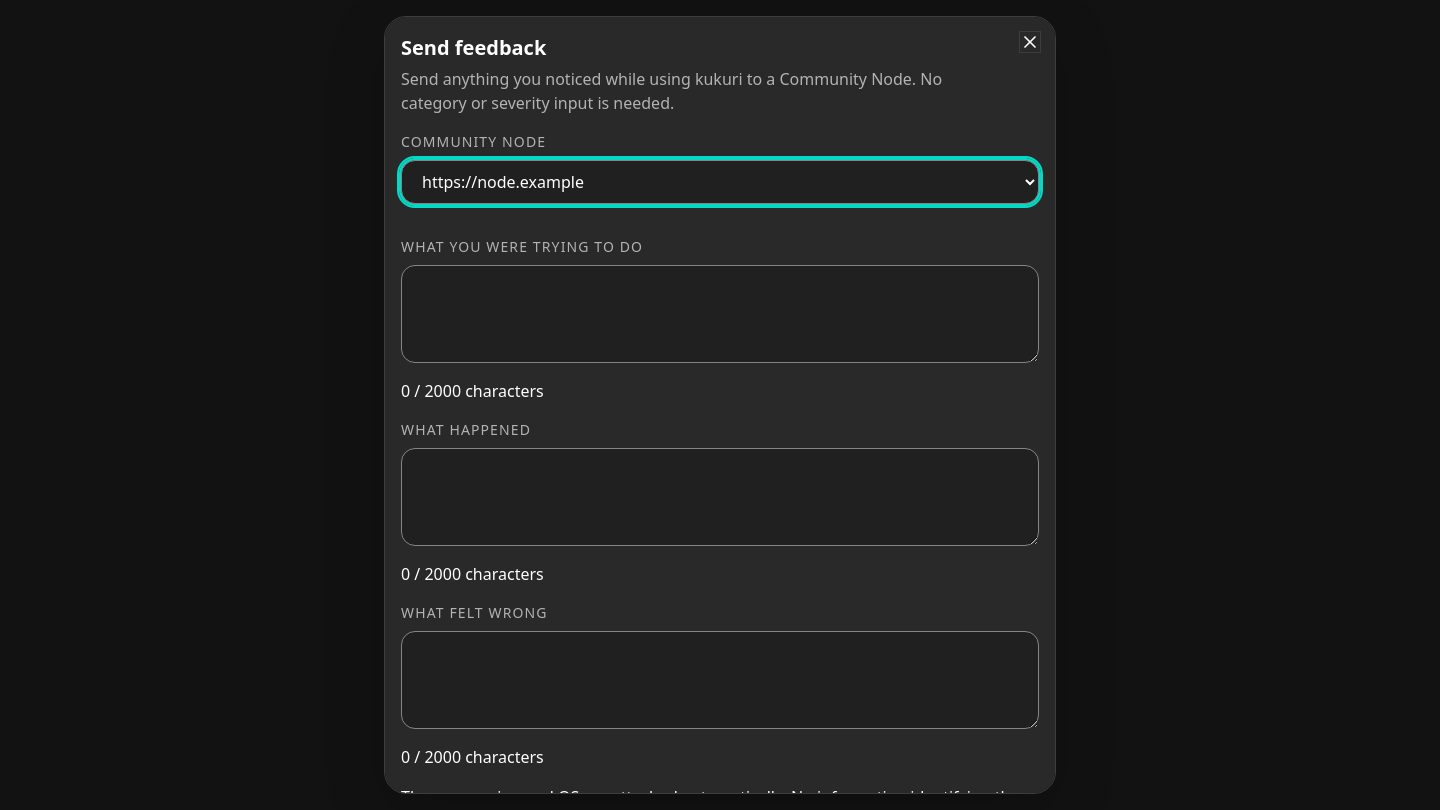
Test case: sends only the three texts and the selected node, then shows the reference id
Type "create a post" into the text box labelled "What you were trying to do" at (720, 314), box 401,265 -> 1039,363
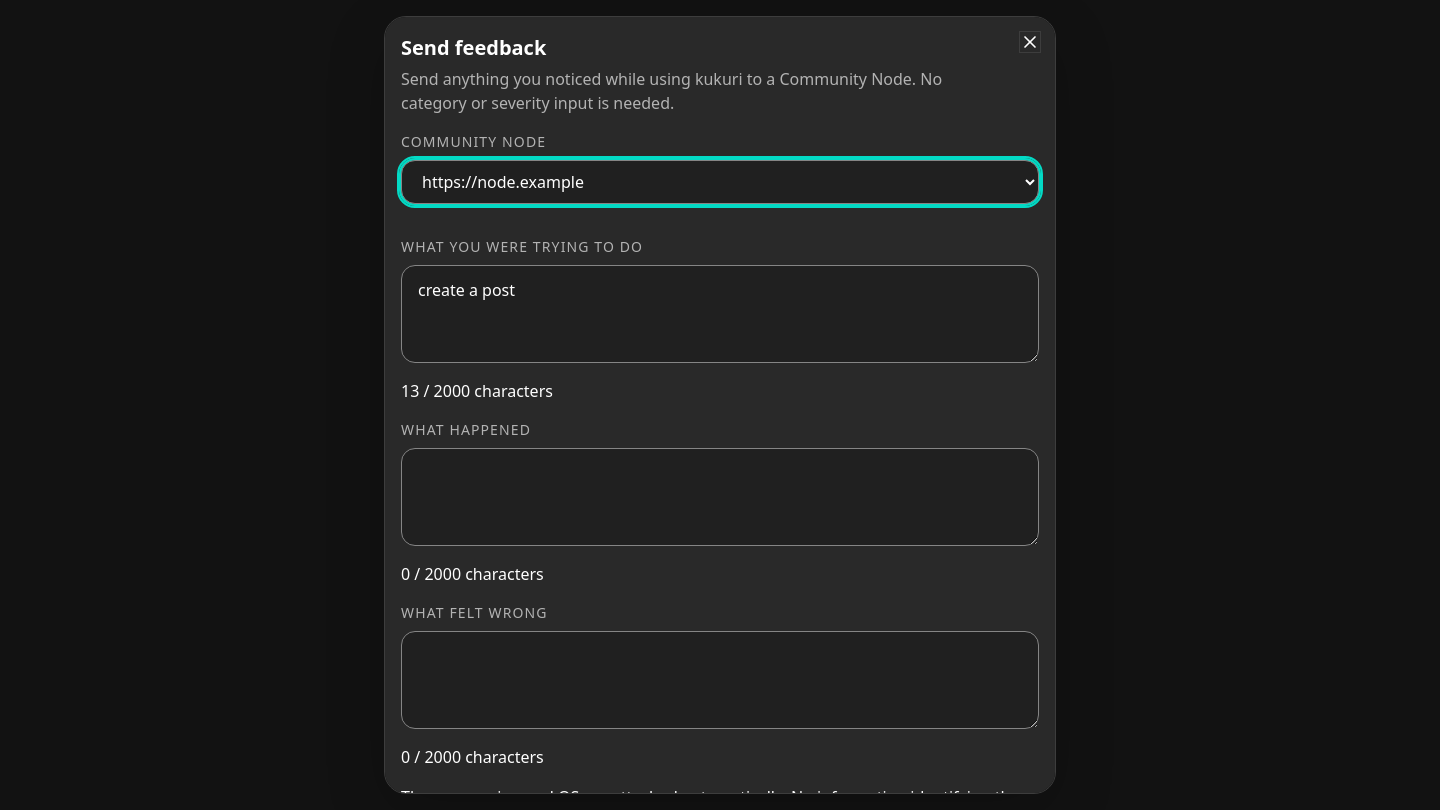
Type "nothing happened after pressing send" into the text box labelled "What happened" at (720, 497), box 401,448 -> 1039,546
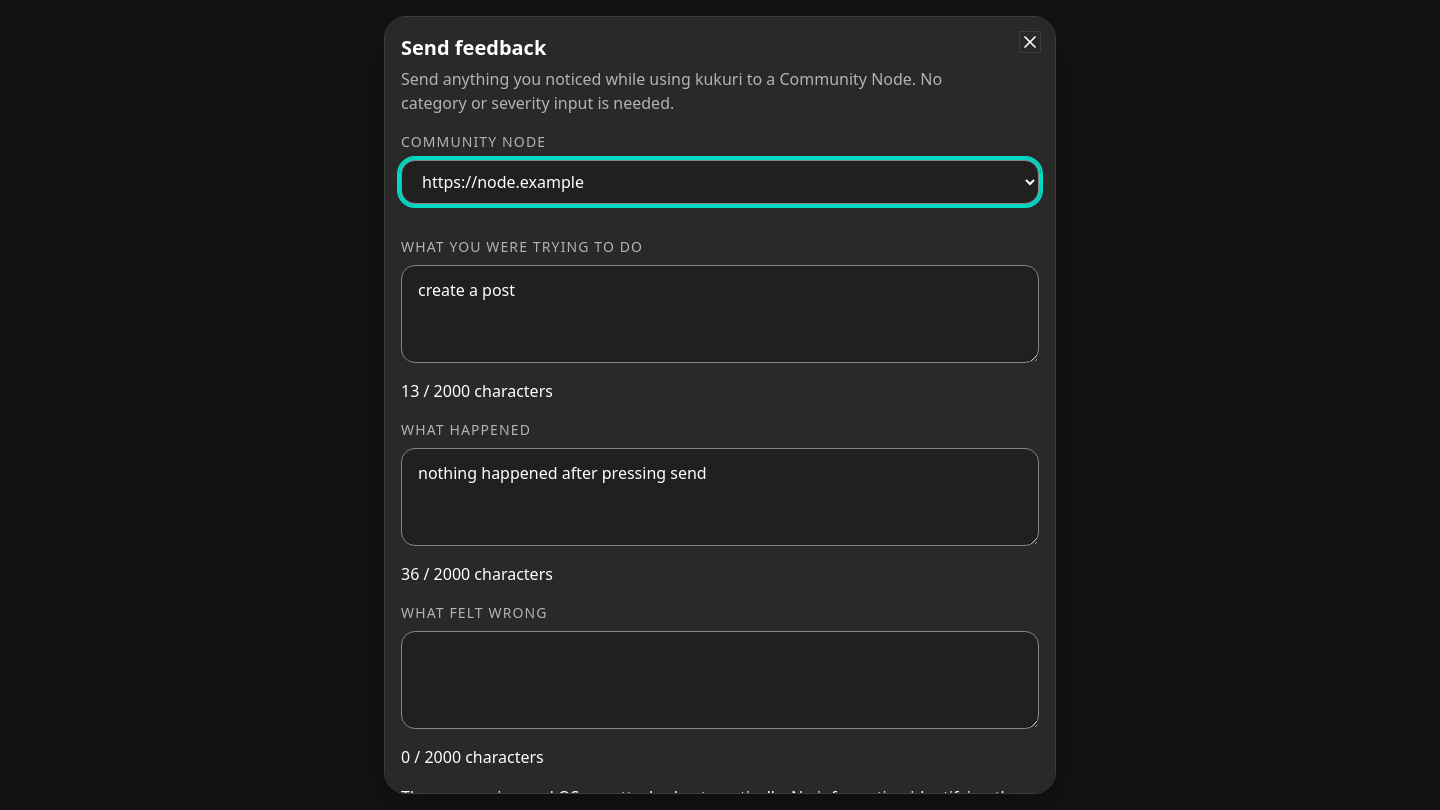
Type "no error and no success message" into the text box labelled "What felt wrong" at (720, 680), box 401,631 -> 1039,729
(page scrolled)
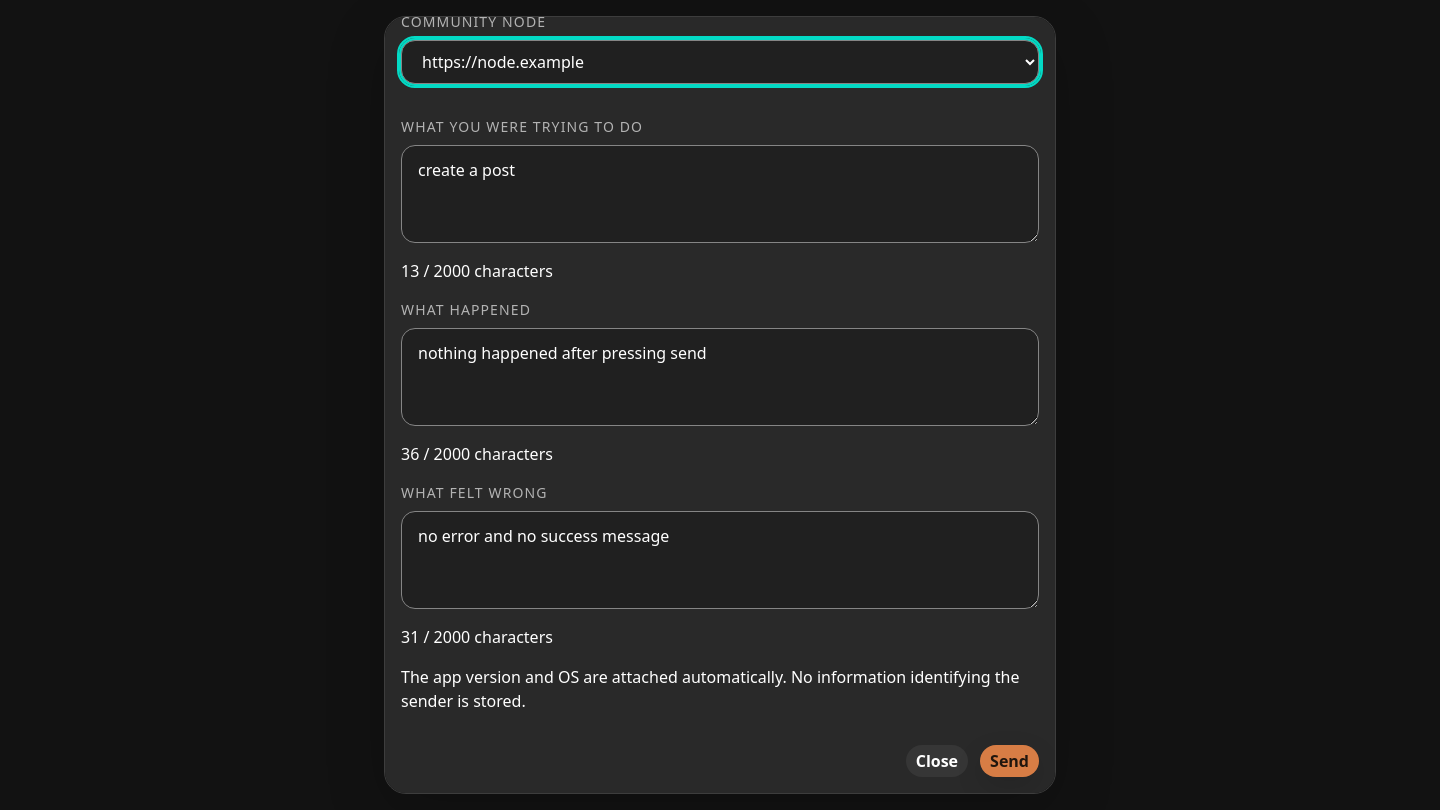
Click the button "Send" at (1010, 761), box 980,745 -> 1039,777
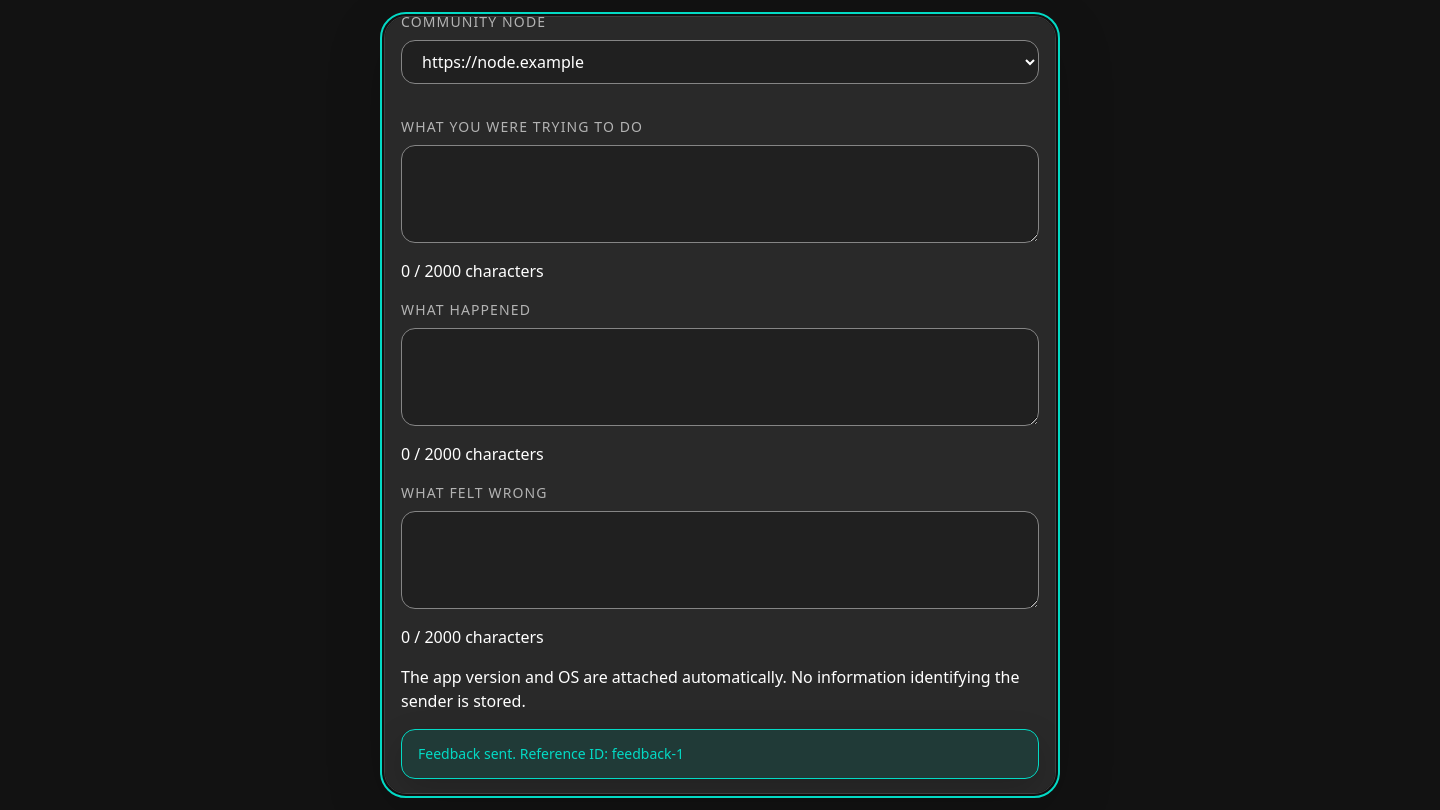
Now the text "Feedback sent. Reference ID: feedback-1" is shown, box 401,729 -> 1039,779
